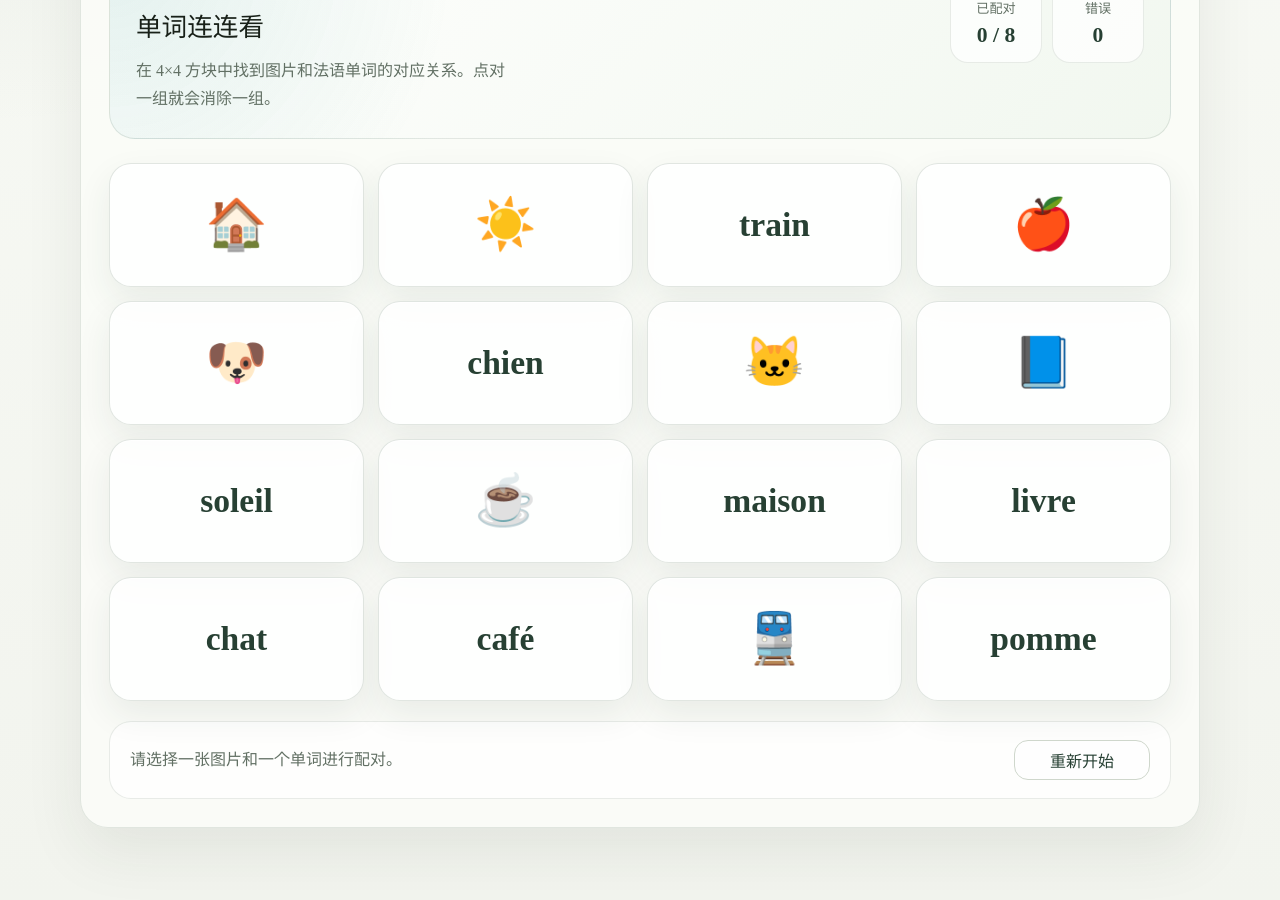
it: WordMatchPage › tracks wrong attempts without removing cards
(page scrolled)
Click the button named "图片：咖啡" at [506, 501], box [378,439,633,563]
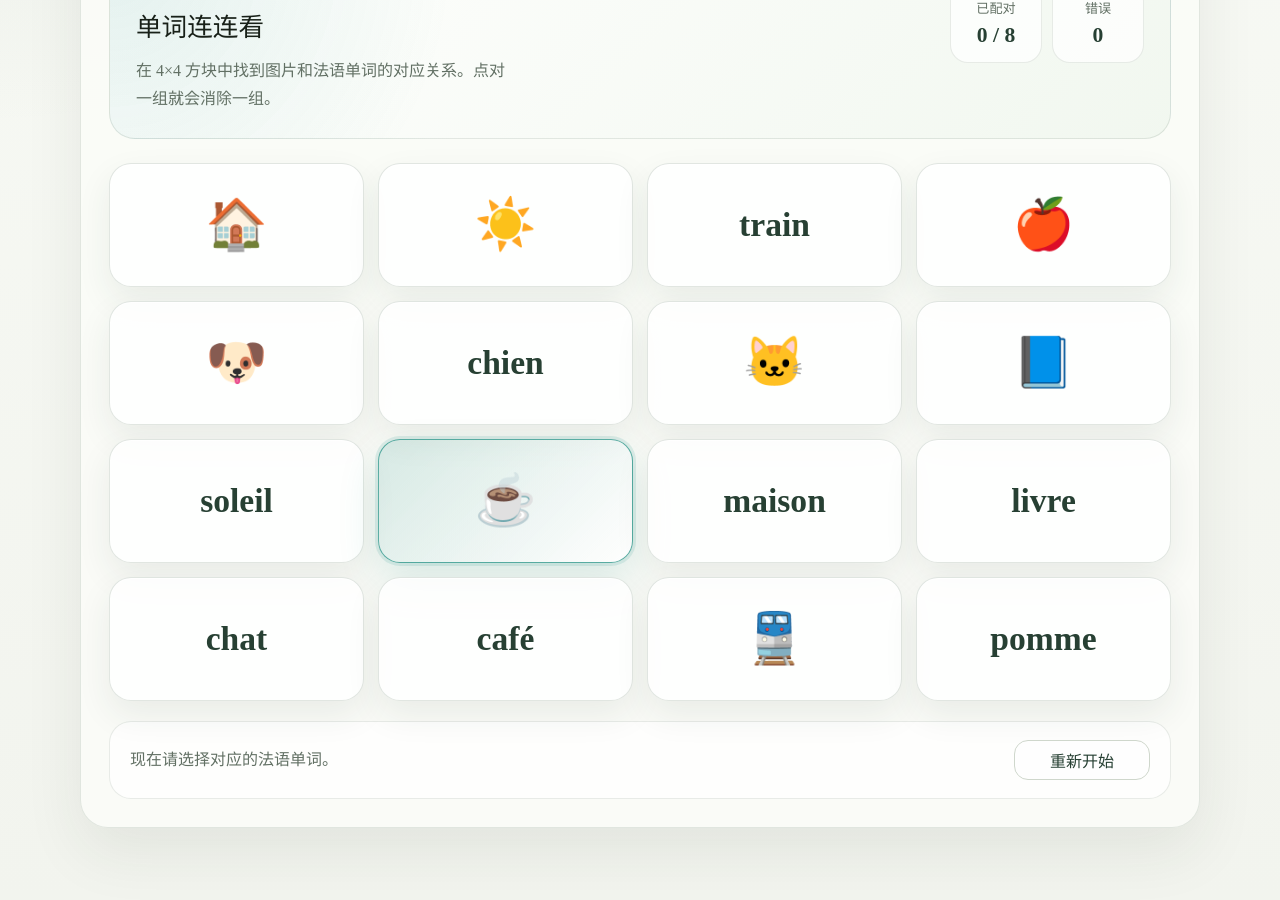
Click the button with aria-label "单词：chat" at [236, 639], box [109,577,364,701]
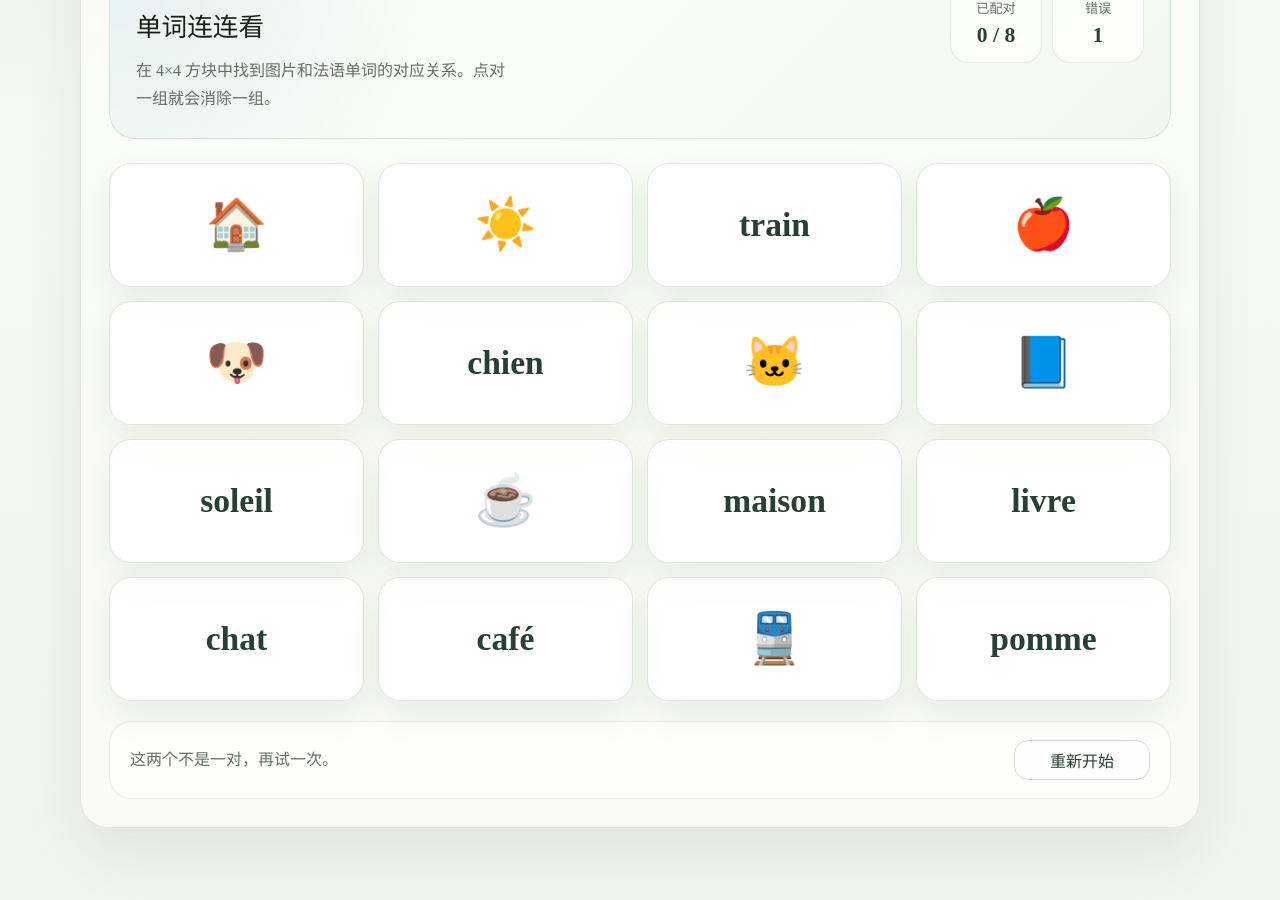
Expected: the text "错误" is shown, [1085,1,1111,16]
Expected: the text "这两个不是一对，再试一次。" is shown, [130,747,338,773]
Expected: the text "1" is shown, [1093,23,1103,47]
